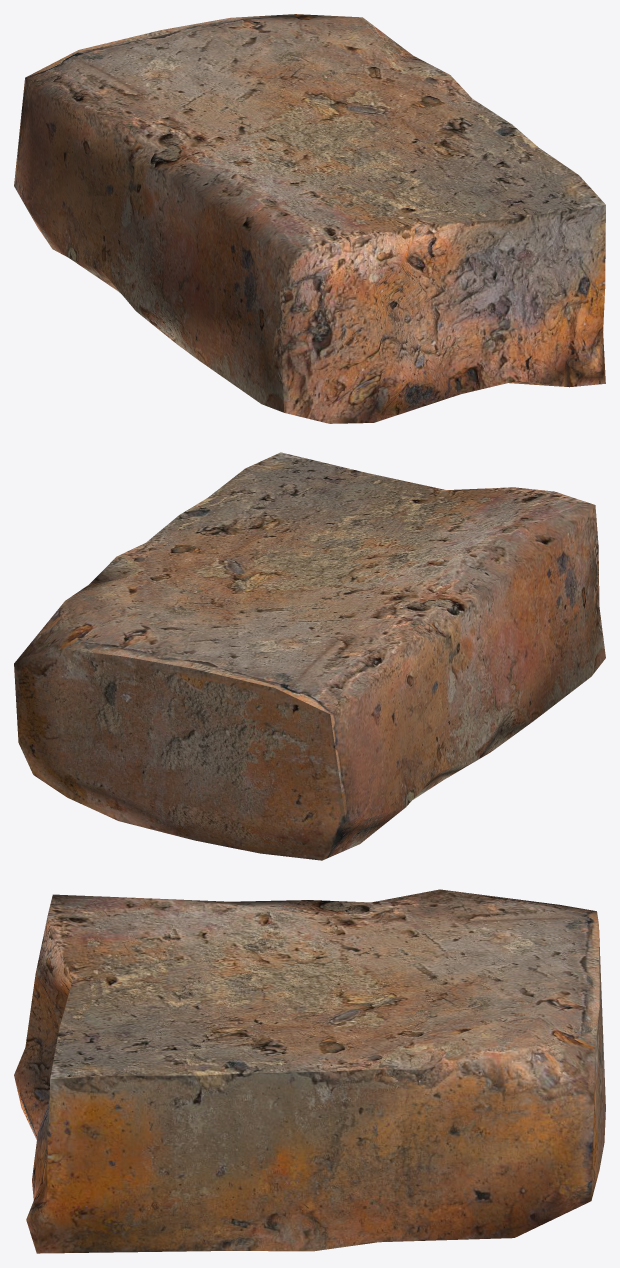
Rendered from sm_Brick_01_05.fbx.
The picture shows the model from 3 angles, top to bottom: view 1: azimuth 30°, elevation 25°; view 2: azimuth 150°, elevation 25°; view 3: azimuth 270°, elevation 25°; orthographic projection. The views are drawn at different scales.
Visible parts, largest first — view 1: sm_Brick_01_05_LOD0; view 2: sm_Brick_01_05_LOD0; view 3: sm_Brick_01_05_LOD0.
Part boxes in pixels (x1,y1,x2,y2): sm_Brick_01_05_LOD0: (14,14,605,423); sm_Brick_01_05_LOD0: (14,452,605,860); sm_Brick_01_05_LOD0: (14,889,605,1253).
Bounding box in the file's own units: 11.83 × 17.5 × 6.89.
